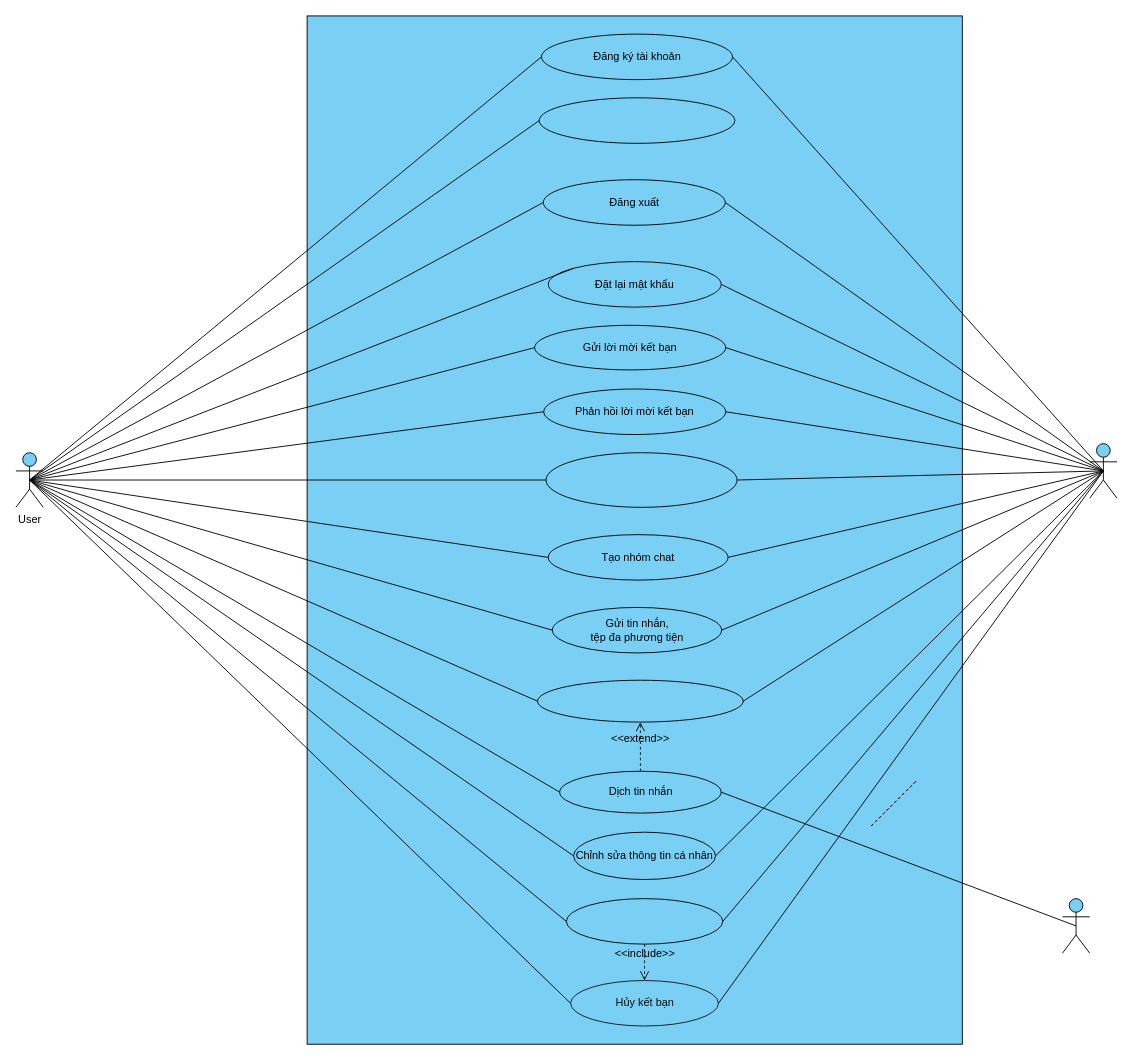
Image size: 1140x1060. Some labels were removed from this diagram. The box of each missing label's shape, as (x1, y1, x2, y2) in pixels:
API translation: (1062, 898, 1090, 953)
Chặn/Bỏ chặn người dùng: (565, 898, 723, 944)
Firestore: (1089, 443, 1117, 498)
Hiện thị lịch sử cuộc trò chuyện: (537, 679, 743, 722)
Tìm kiếm người dùng, nhóm chat: (545, 452, 737, 507)
Đăng nhập: (538, 97, 735, 143)
